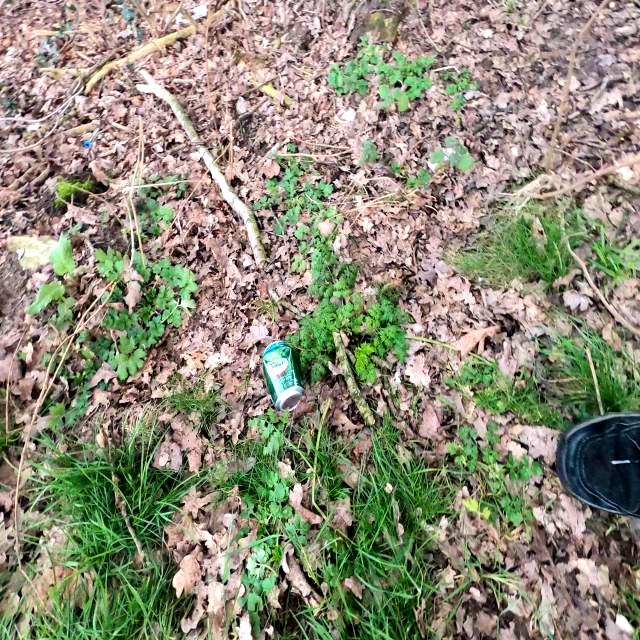Metal: (254, 334, 310, 411)
